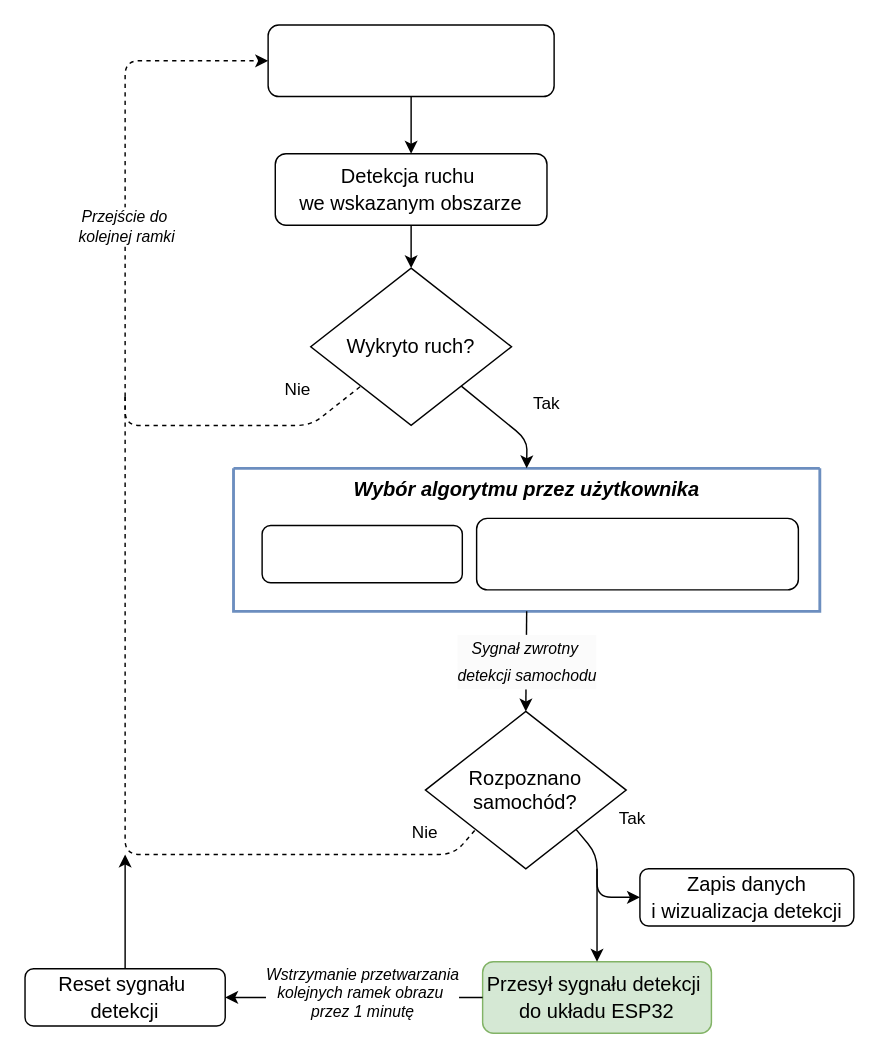
The diagram is 879 pixels wide and 1058 high, and some of its shapes have lost their labels. The shapes that lost their labels are listed below. From the top down, each one's centre as x and y in pixels, then its label:
At (410,60): "Odczyt ramki obrazu z kamery".
At (361,553): "Algorytm z YOLO".
At (636,553): "Algorytm z klasycznymi metodami rozpoznawania tablic".
